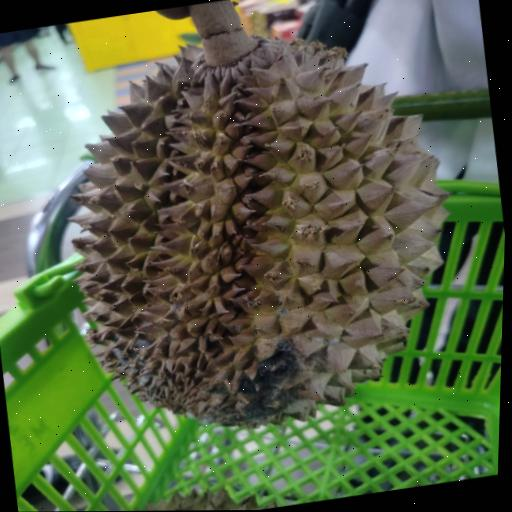mold: (2, 0, 512, 466)
